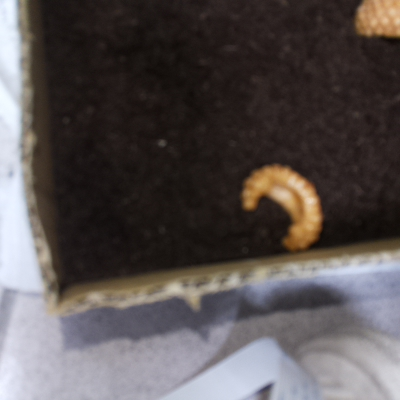eggs: (234, 157, 340, 258), (345, 1, 399, 49)
